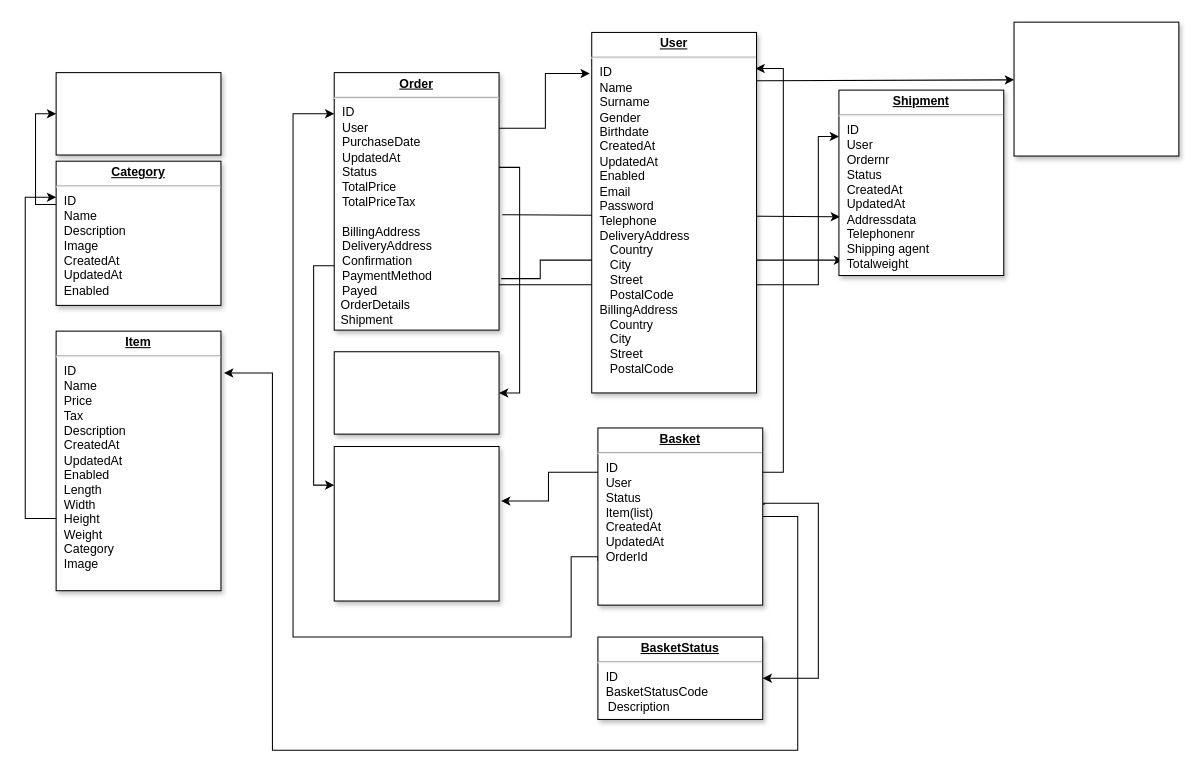
Some shapes in this 1203 by 777 pixel diagram are drawn without their labels. Here are the shapes that lost their labels. From the top down, the centre of each, then its label:
point 1097,90: Session ID User Status CreatedAt UpdatedAt LoggedOn
point 139,114: CategoryStatus ID CategoryStatusCode Description
point 417,394: OrderStatus ID OrderStatusCode Description
point 417,524: OrderDetails ID Basket Item(list) Quantity TotalWeight PricePerItem
